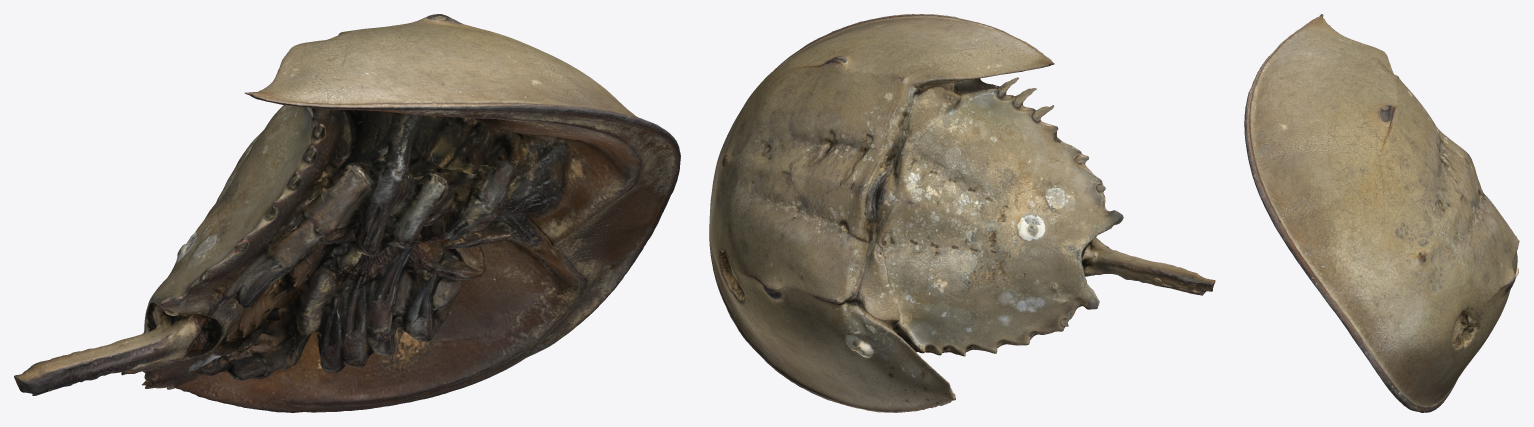
The model's file is MZUR3D-004.glb.
The picture shows the model from 3 angles, left to right: view 1: azimuth 30°, elevation 25°; view 2: azimuth 150°, elevation 25°; view 3: azimuth 270°, elevation 25°; orthographic projection. The views are drawn at different scales.
Visible parts, largest first — view 1: MZUR3D-004; view 2: MZUR3D-004; view 3: MZUR3D-004.
Boxes of the visible parts, bbox=[...] form: MZUR3D-004: bbox=[14, 14, 680, 412]; MZUR3D-004: bbox=[709, 14, 1215, 412]; MZUR3D-004: bbox=[1244, 14, 1519, 412].
Size of the model in its own units: 4.57 by 2.9 by 2.38.
1 material, 1 textured.
